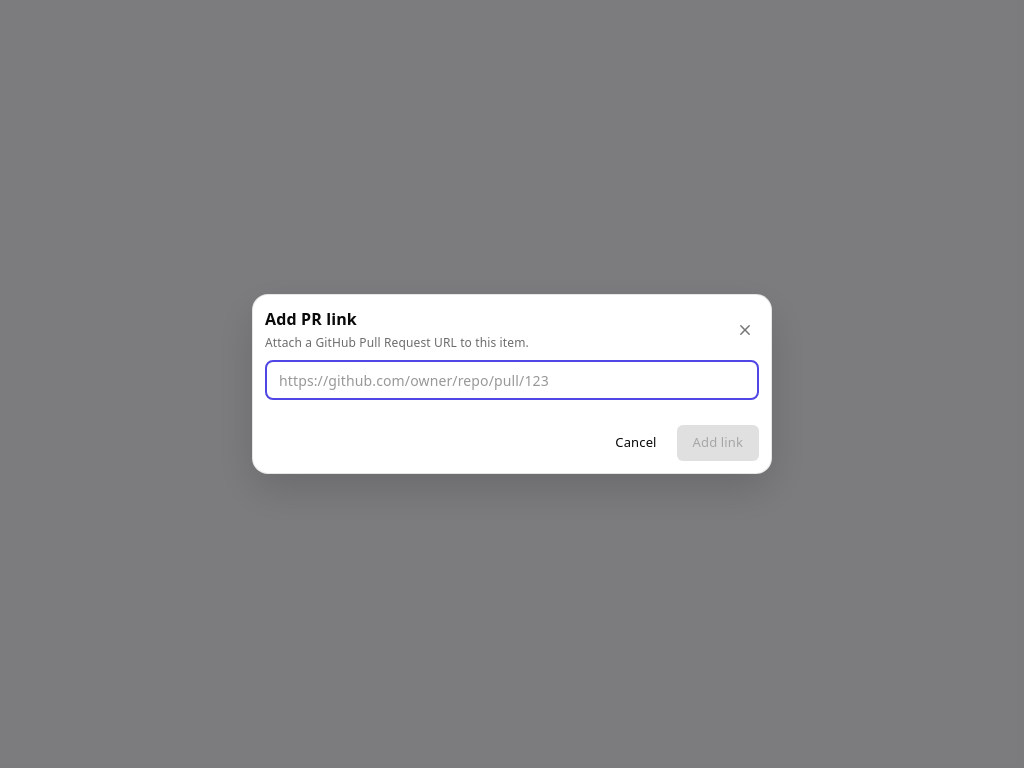
Scenario: AddPrLinkDialog › error is cleared when the URL input changes after a validation error
// Trigger a validation error first
Type "not-a-valid-url" into the field named "GitHub PR URL". click: x=512, y=380
box: x1=265 y1=360 x2=759 y2=400
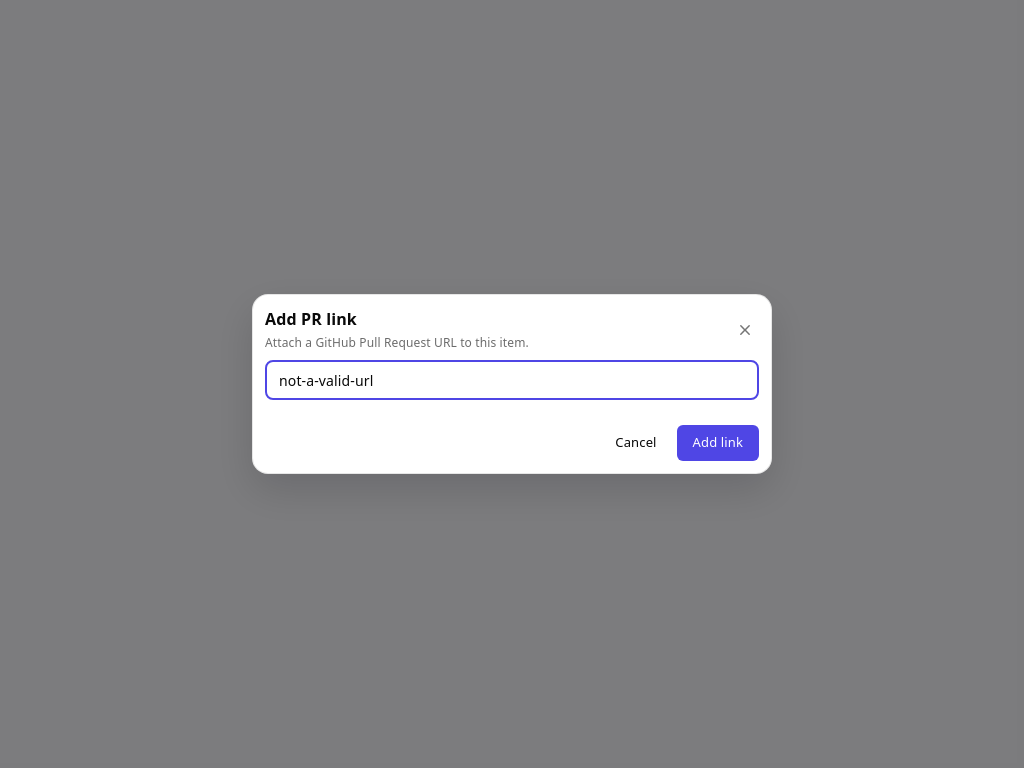
Click the button "Add link". click: x=718, y=443
box: x1=677 y1=425 x2=759 y2=461
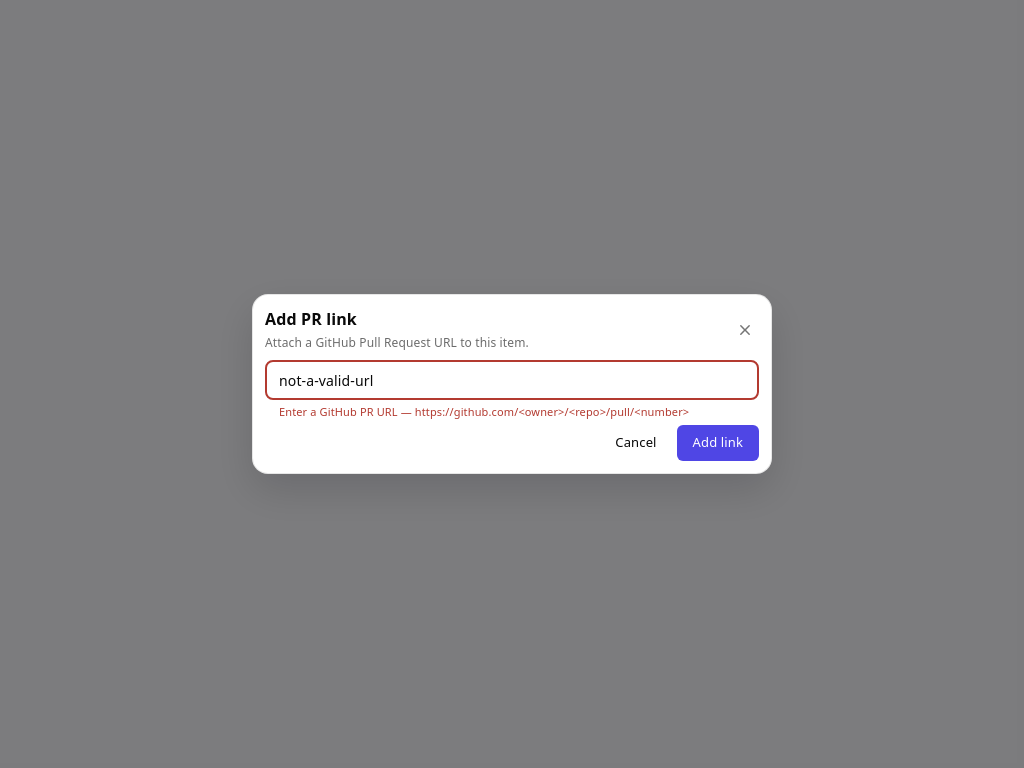
Check: the text "GitHub PR URL" is shown, box x1=279 y1=404 x2=689 y2=419
// Now change the input — error should clear
Replace the text in the field named "GitHub PR URL" with "https://github.com/owner/repo/pull/1". click: x=512, y=380
box: x1=265 y1=360 x2=759 y2=400
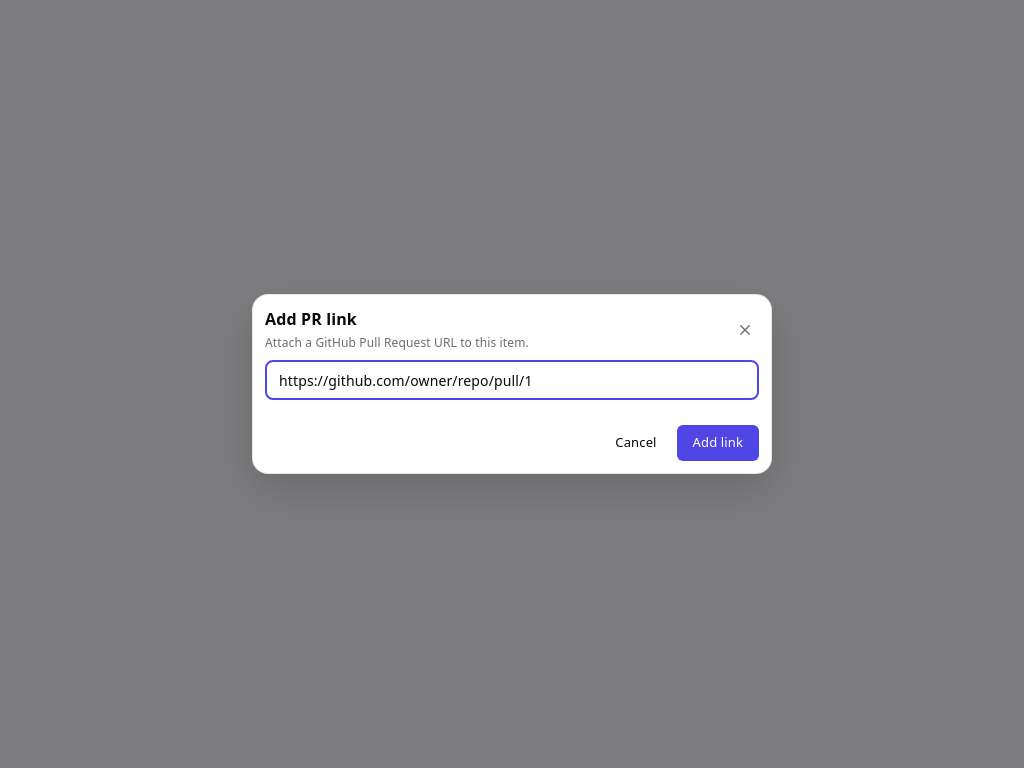
Check: the text "Enter a GitHub PR URL" is gone
